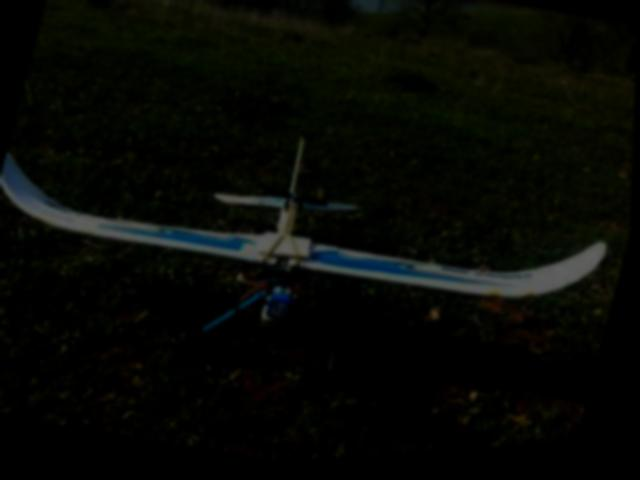uav: (0, 54, 630, 467)
